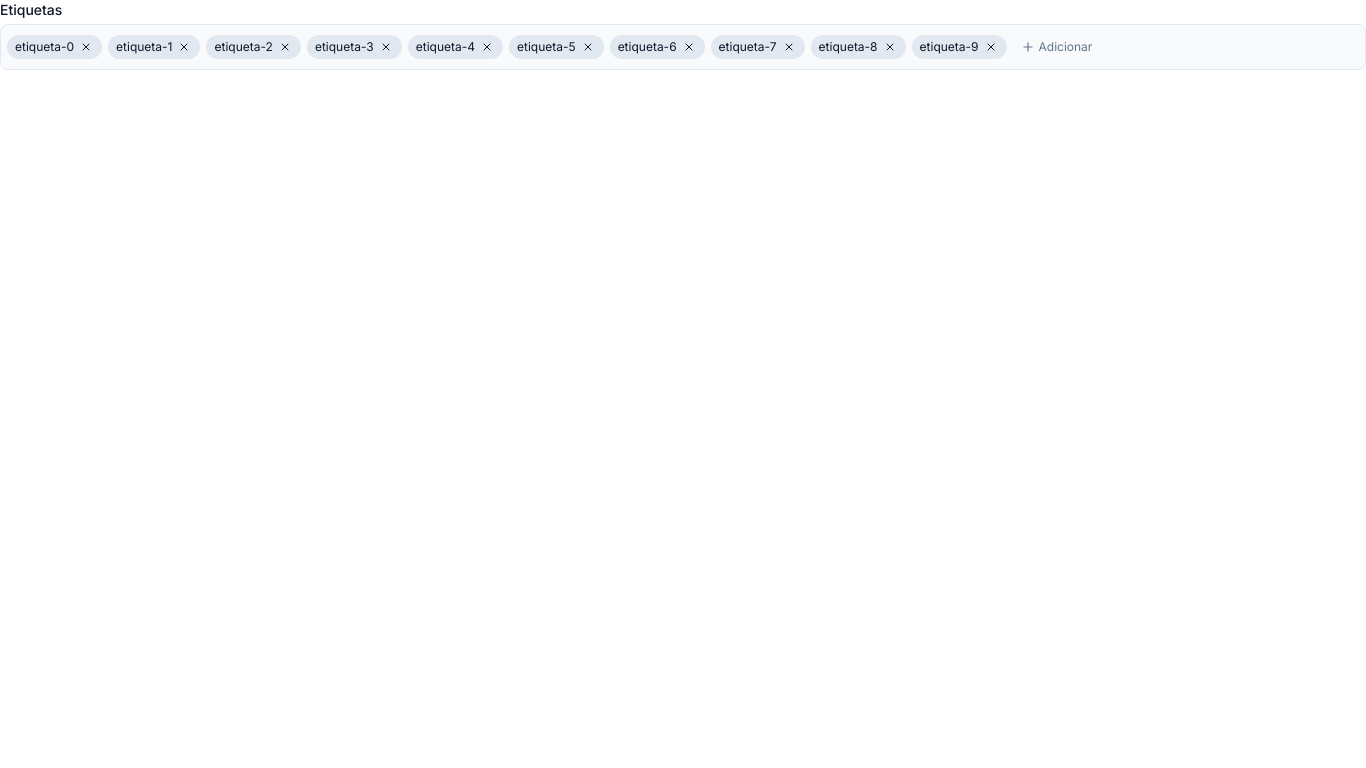
Scenario: SelecionadorEtiquetas › impede selecionar mais de 10 etiquetas
Click the dropdown at (1056, 47), box [1012,31,1100,63]
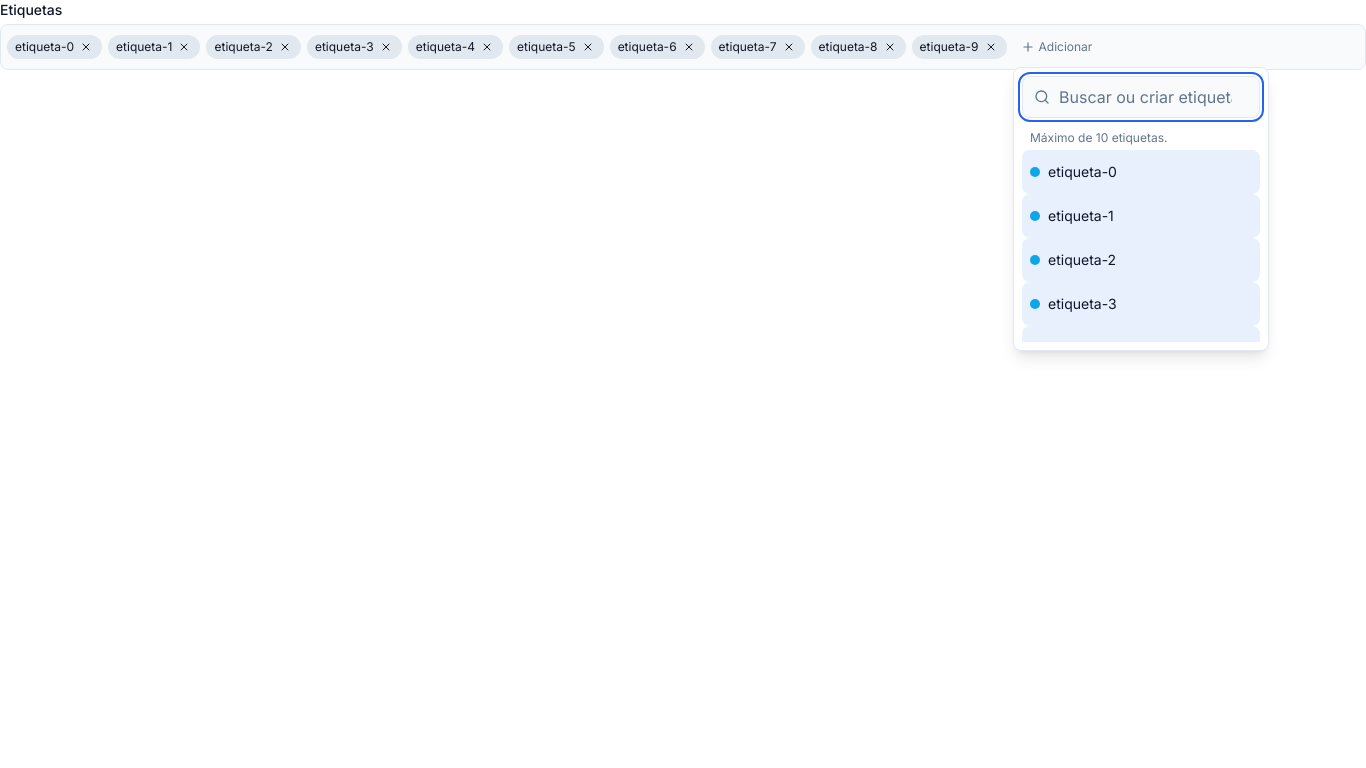
Check: the text "Máximo de 10 etiquetas." is shown, box [1030,130,1168,145]
